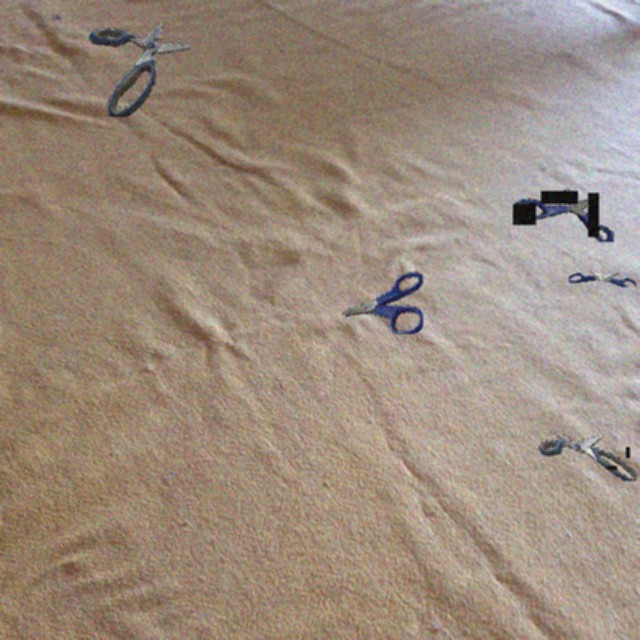scissors: (88, 23, 191, 117), (513, 188, 614, 242), (342, 271, 423, 334), (538, 431, 637, 481), (569, 270, 636, 287)
